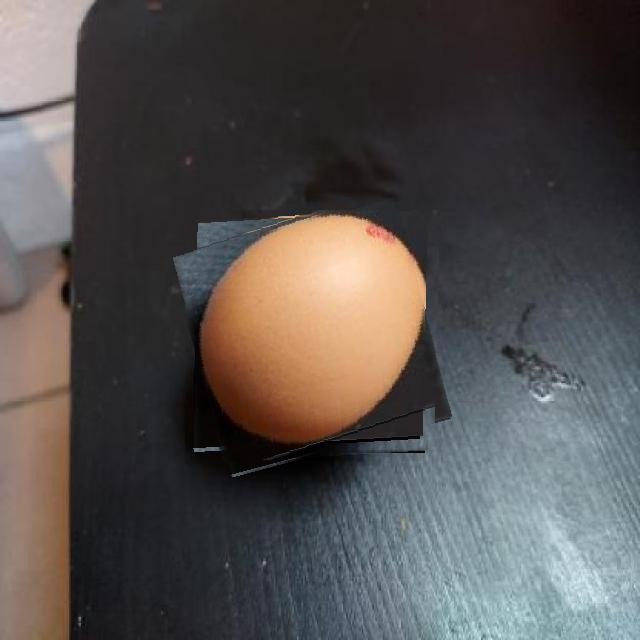biodegradable: (185, 210, 440, 465)
